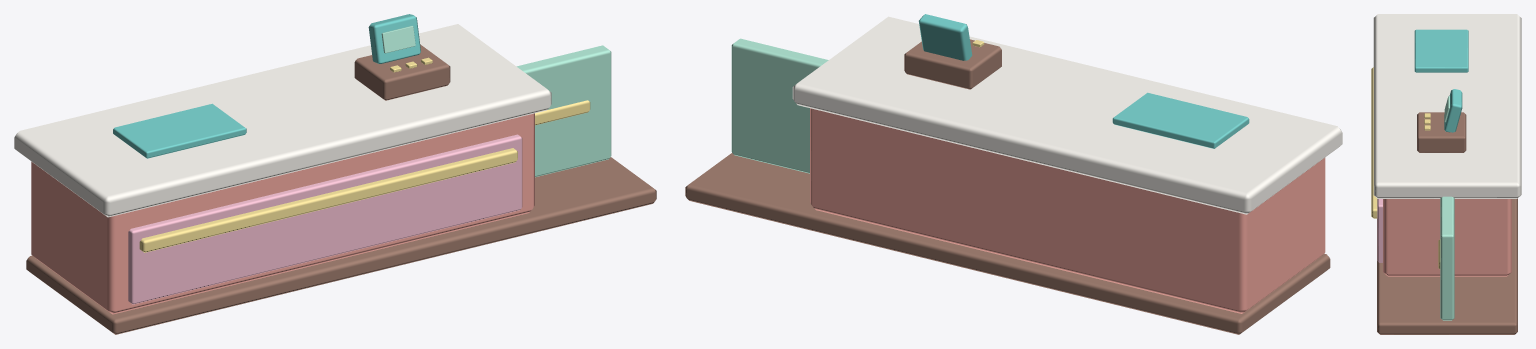
The model's file is main_serving_counter.glb.
3 views of the same model, side by side, from view 1: azimuth 30°, elevation 25°; view 2: azimuth 150°, elevation 25°; view 3: azimuth 270°, elevation 25° (orthographic). The views are drawn at different scales.
Parts seen in each view (by area): view 1: ServingCounter_Top, ServingCounter_FrontPanel, ServingCounter_Body, ServingCounter_Platform, ServingCounter_Hatch, ServingCounter_FrontStripe, ServingCounter_Tray, CashRegister_Base, CashRegister_Display, ServingCounter_HatchAccent, CashRegister_Screen; view 2: ServingCounter_Body, ServingCounter_Top, ServingCounter_Platform, ServingCounter_Hatch, ServingCounter_Tray, CashRegister_Base, CashRegister_Display; view 3: ServingCounter_Top, ServingCounter_Body, ServingCounter_Platform, ServingCounter_Tray, ServingCounter_Hatch, CashRegister_Base, CashRegister_Display, ServingCounter_FrontStripe, ServingCounter_FrontPanel.
Part boxes in pixels (x1=…): ServingCounter_Top: x1=14, y1=24, x2=551, y2=217; ServingCounter_FrontPanel: x1=128, y1=134, x2=522, y2=304; ServingCounter_Body: x1=31, y1=113, x2=534, y2=314; ServingCounter_Platform: x1=26, y1=157, x2=656, y2=334; ServingCounter_Hatch: x1=516, y1=45, x2=611, y2=177; ServingCounter_FrontStripe: x1=139, y1=148, x2=517, y2=252; ServingCounter_Tray: x1=113, y1=103, x2=246, y2=158; CashRegister_Base: x1=354, y1=44, x2=450, y2=100; CashRegister_Display: x1=368, y1=14, x2=420, y2=63; ServingCounter_HatchAccent: x1=535, y1=100, x2=590, y2=125; CashRegister_Screen: x1=381, y1=25, x2=415, y2=53; ServingCounter_Body: x1=810, y1=108, x2=1325, y2=313; ServingCounter_Top: x1=792, y1=16, x2=1342, y2=214; ServingCounter_Platform: x1=685, y1=153, x2=1330, y2=334; ServingCounter_Hatch: x1=731, y1=38, x2=828, y2=173; ServingCounter_Tray: x1=1112, y1=92, x2=1249, y2=148; CashRegister_Base: x1=904, y1=39, x2=1001, y2=89; CashRegister_Display: x1=918, y1=14, x2=972, y2=60; ServingCounter_Top: x1=1373, y1=14, x2=1521, y2=198; ServingCounter_Body: x1=1383, y1=199, x2=1511, y2=276; ServingCounter_Platform: x1=1377, y1=198, x2=1517, y2=334; ServingCounter_Tray: x1=1414, y1=29, x2=1468, y2=72; ServingCounter_Hatch: x1=1440, y1=196, x2=1454, y2=320; CashRegister_Base: x1=1417, y1=112, x2=1466, y2=152; CashRegister_Display: x1=1444, y1=89, x2=1462, y2=132; ServingCounter_FrontStripe: x1=1371, y1=67, x2=1377, y2=218; ServingCounter_FrontPanel: x1=1377, y1=199, x2=1382, y2=262.
Size of the model in its own units: 4.28 by 1.48 by 1.28.
